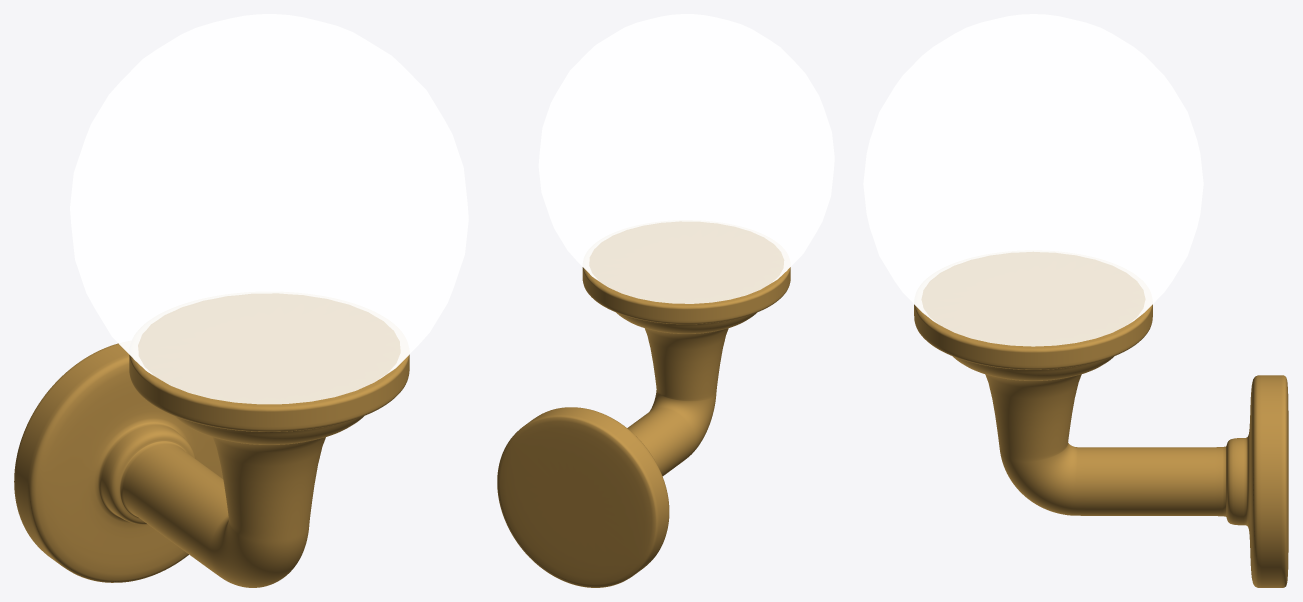
The model's file is Lamp01.glb.
The picture shows the model from 3 angles, left to right: view 1: azimuth 30°, elevation 25°; view 2: azimuth 150°, elevation 25°; view 3: azimuth 270°, elevation 25°; orthographic projection. The views are drawn at different scales.
Visible parts, largest first — view 1: Lamp, BaseLamp; view 2: Lamp, BaseLamp; view 3: Lamp, BaseLamp.
Boxes of the visible parts, box(x1,y1,x2,y2) form: Lamp: box(70, 14, 468, 404); BaseLamp: box(14, 293, 409, 587); Lamp: box(538, 14, 834, 303); BaseLamp: box(497, 221, 790, 587); Lamp: box(863, 14, 1203, 346); BaseLamp: box(914, 252, 1288, 587).
Size of the model in its own units: 0.3 by 0.5332 by 0.3749.
